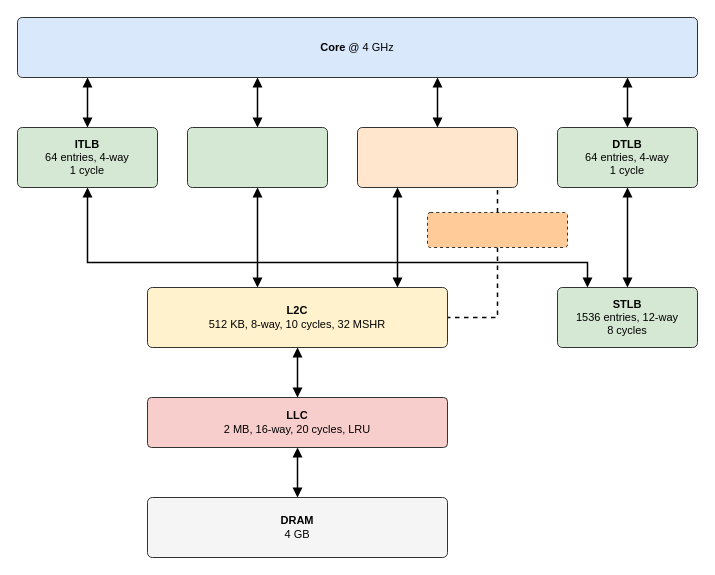
Some shapes in this 715 by 575 pixel diagram are drawn without their labels. The shapes that lost their labels are listed below. From the top down, each one's centre as x and y in pixels, then its label:
the point at 257,157: L1I 32 KB, 8-way 4 cycles
the point at 437,157: L1D 48 KB, 12-way 5 cycles, 16 MSHR
the point at 497,230: L1D prefetcher (IP-Stride / SPP)
